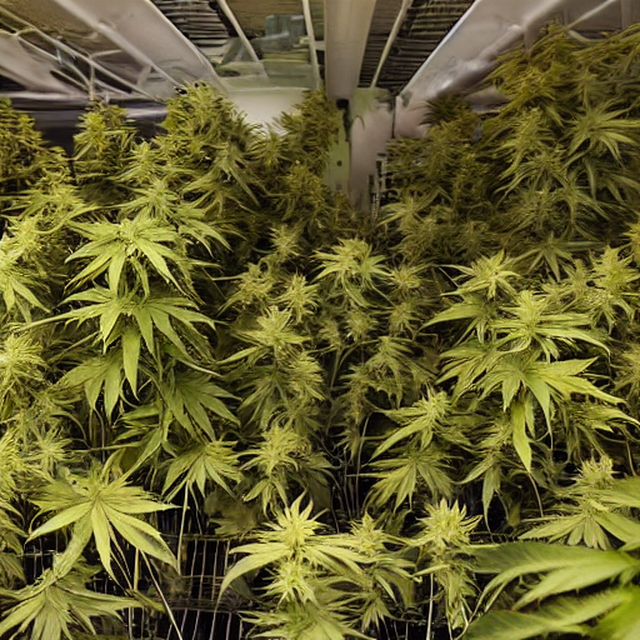Marijuana Plant: (210, 181, 639, 639)
